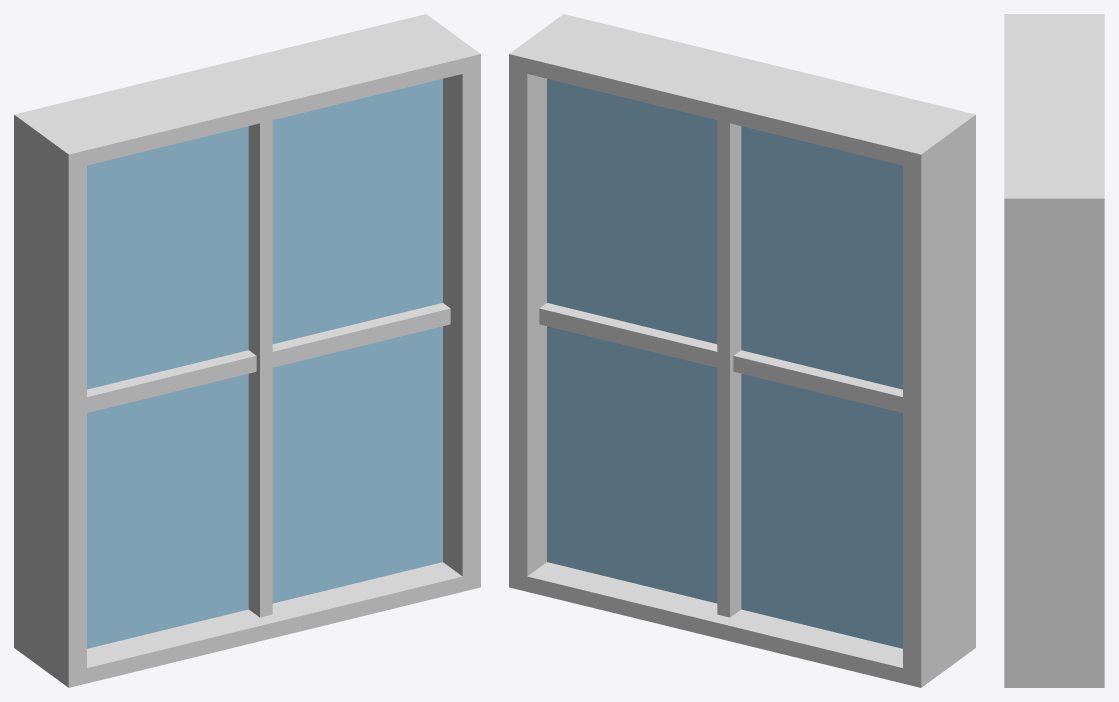
Rendered from window_003.glb.
3 renders of one model, left to right at view 1: azimuth 30°, elevation 25°; view 2: azimuth 150°, elevation 25°; view 3: azimuth 270°, elevation 25°, orthographic. The views are drawn at different scales.
Parts seen in each view (by area): view 1: window_003; view 2: window_003; view 3: window_003.
Part boxes in pixels (x1,y1,x2,y2): window_003: [14, 14, 480, 687]; window_003: [509, 14, 975, 687]; window_003: [1004, 14, 1104, 687].
Size of the model in its own units: 1.61 by 1.99 by 0.37.
Materials: 1 (1 with a texture image).
